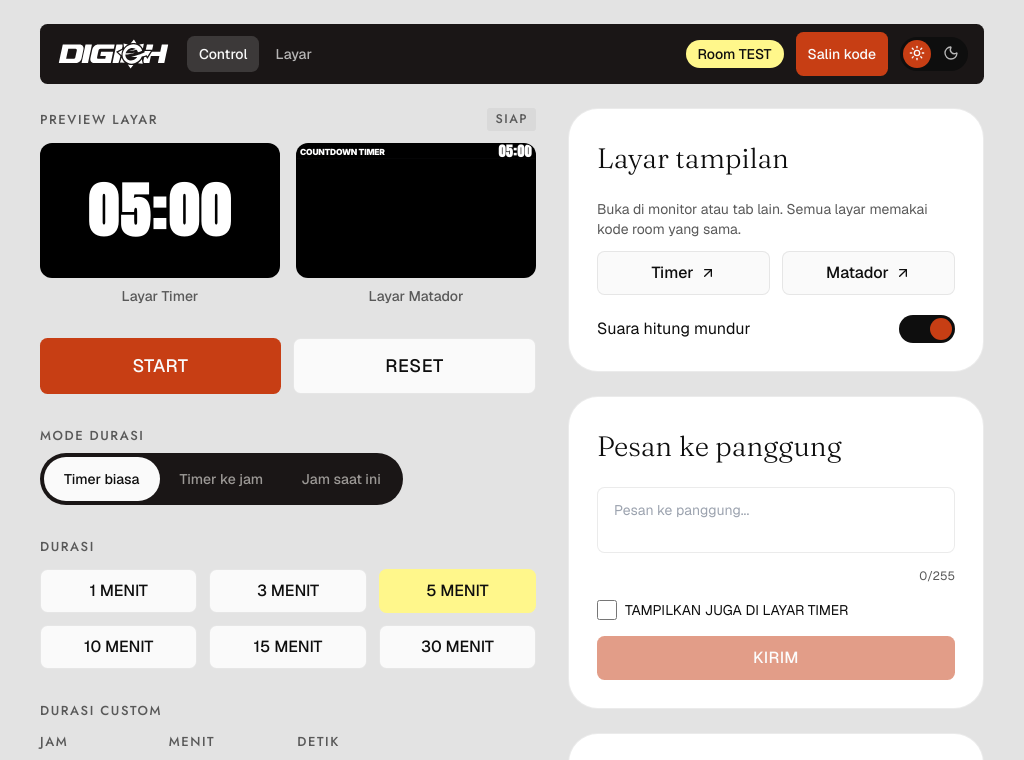
Test case: ControlPage › mode durasi (segmented) › pilih TIMER KE JAM: preset & MM:SS hilang, KE JAM muncul
The image size is (1024, 760).
Click the radio button labelled "Timer ke jam". click: {"x": 221, "y": 479}
box: [164,457,279,501]
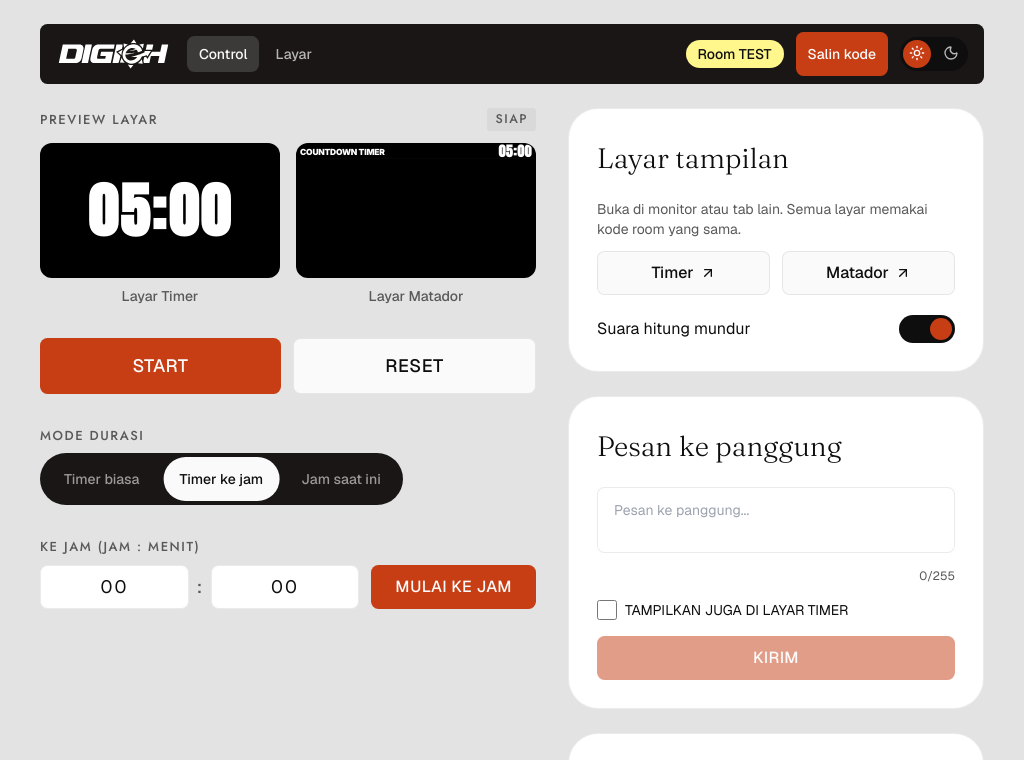
Result: the button "5 MENIT" is gone
Result: the field with test id "target-hour" is shown at [40,565,189,609]
Result: the button "MULAI KE JAM" is shown at [371,565,536,609]
